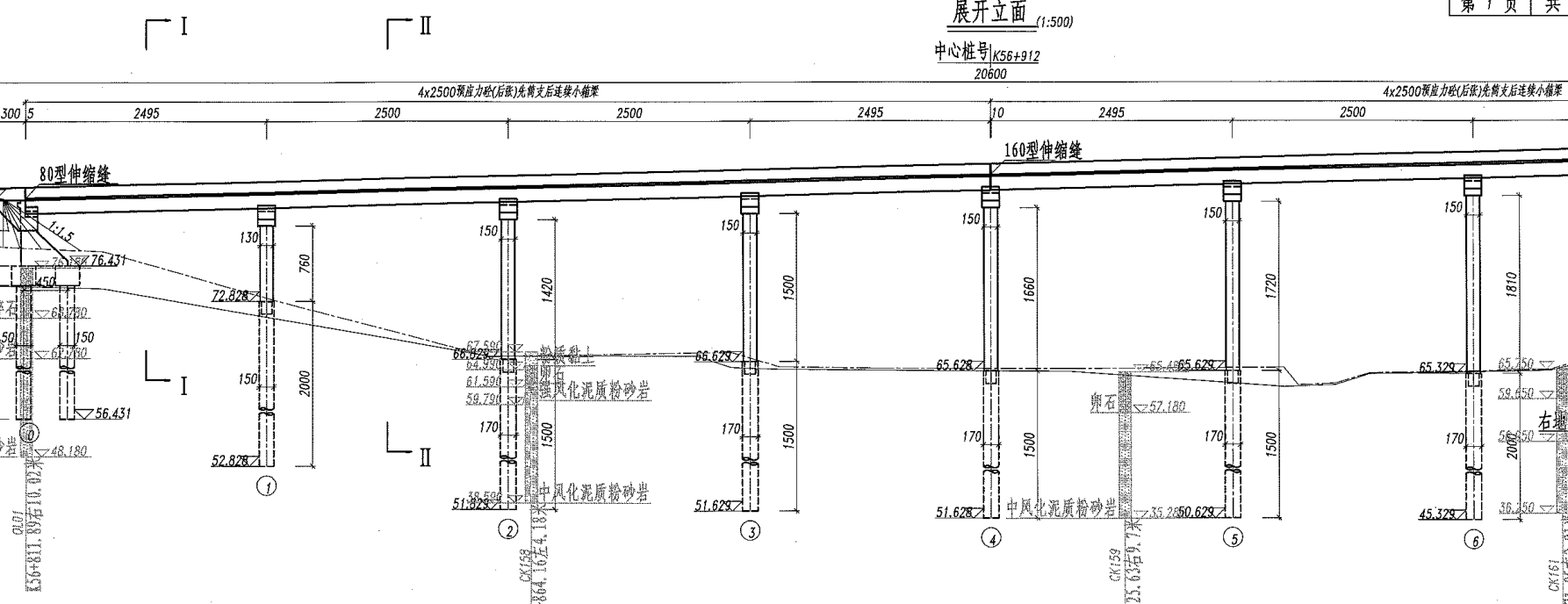A: (2, 66, 1568, 90)
C: (1154, 178, 1262, 557), (1401, 173, 1500, 559), (923, 183, 1019, 555), (683, 192, 774, 549), (445, 196, 533, 547), (199, 198, 291, 503)
